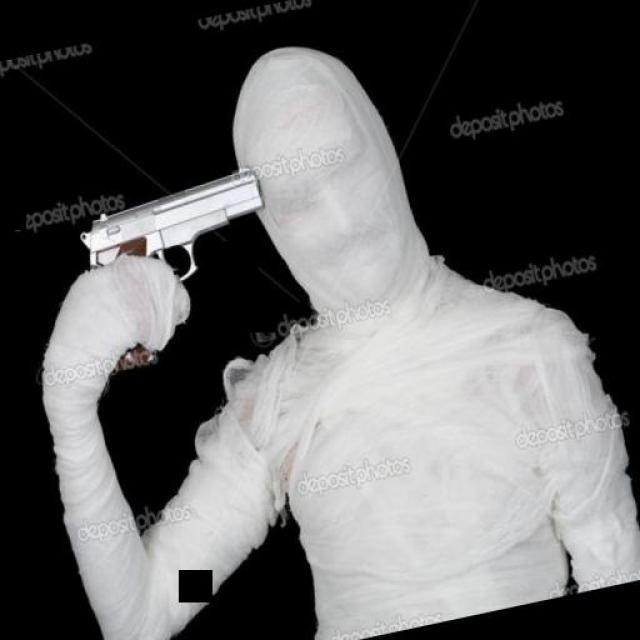gun: (60, 152, 299, 382)
